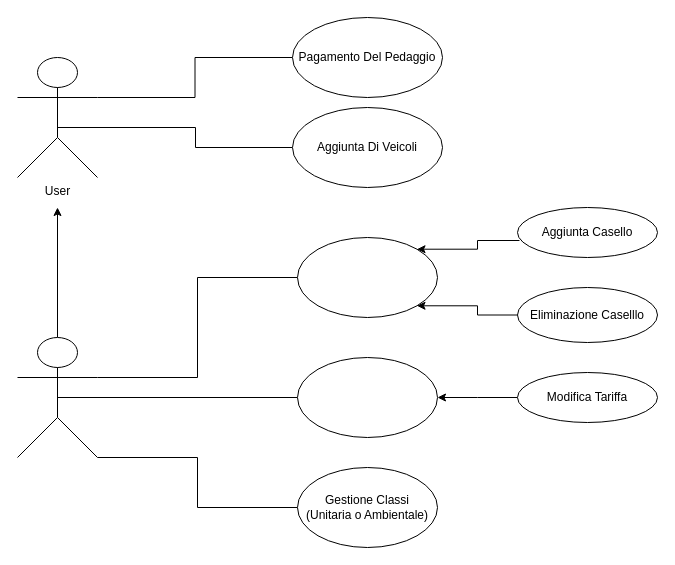
The diagram is 675 pixels wide and 565 high, and some of its shapes have lost their labels. Each missing label, with the box of its shape:
Admin: (16, 336, 98, 458)
Gestione Caselli: (296, 236, 438, 318)
Gestione Tariffe: (296, 356, 438, 438)
